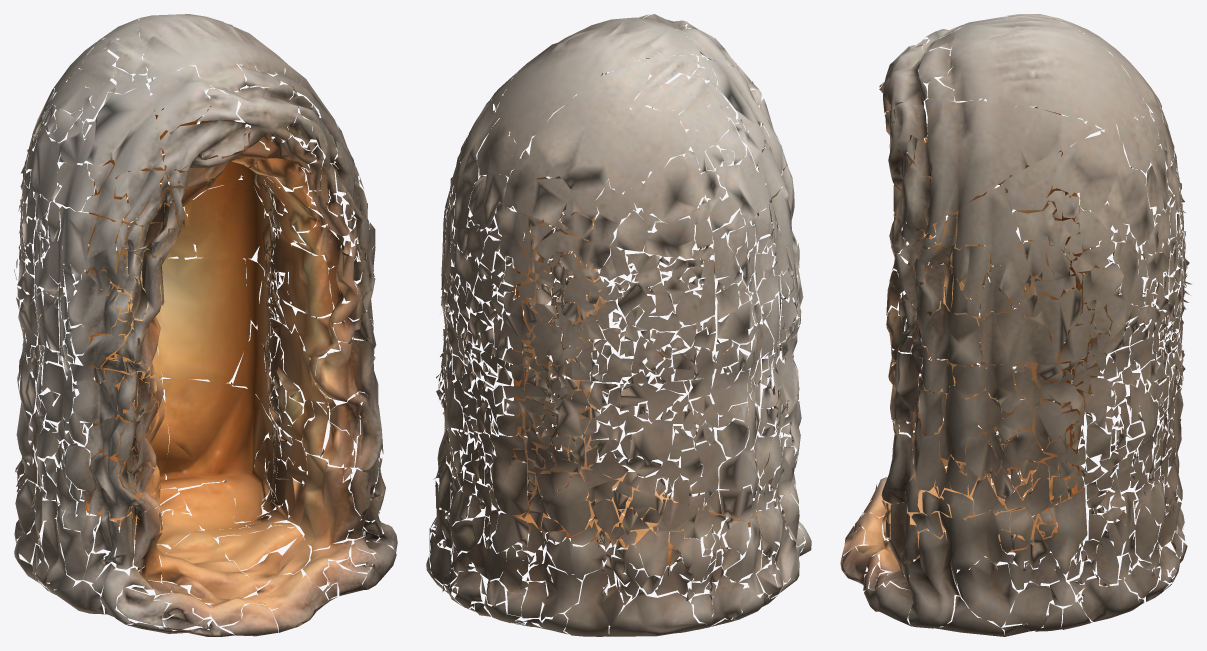
The model's file is glowing-wool-cave-game.glb.
The picture shows the model from 3 angles, left to right: view 1: azimuth 30°, elevation 25°; view 2: azimuth 150°, elevation 25°; view 3: azimuth 270°, elevation 25°; orthographic projection. The views are drawn at different scales.
Parts seen in each view (by area): view 1: tripo_node_f39d2b54-3718-40fd-9f93-8e6e016ca76d; view 2: tripo_node_f39d2b54-3718-40fd-9f93-8e6e016ca76d; view 3: tripo_node_f39d2b54-3718-40fd-9f93-8e6e016ca76d.
Boxes of the visible parts, bbox=[...] form: tripo_node_f39d2b54-3718-40fd-9f93-8e6e016ca76d: bbox=[14, 14, 397, 636]; tripo_node_f39d2b54-3718-40fd-9f93-8e6e016ca76d: bbox=[426, 14, 811, 636]; tripo_node_f39d2b54-3718-40fd-9f93-8e6e016ca76d: bbox=[840, 14, 1191, 636].
Size of the model in its own units: 0.6183 by 0.9793 by 0.5846.
Materials: 1 (1 with a texture image).
